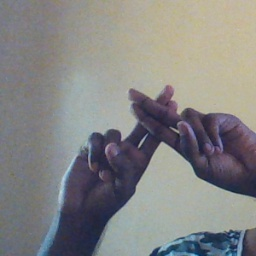F: (95, 79, 224, 178)
